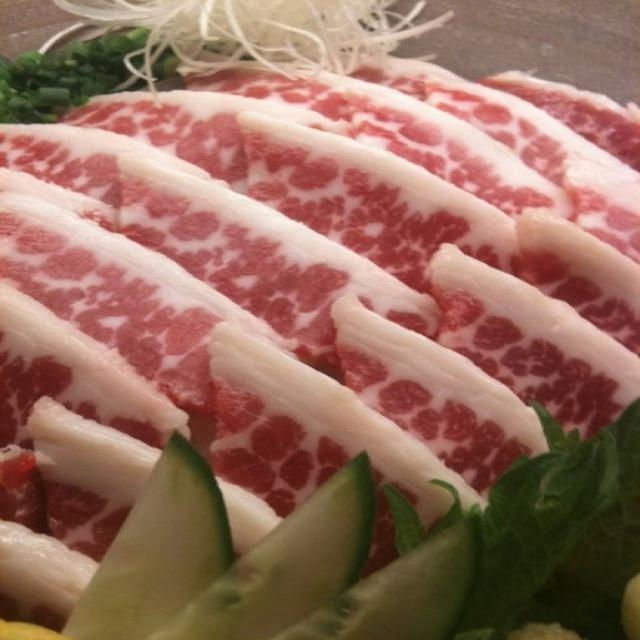刺身生食: (6, 8, 633, 634)
